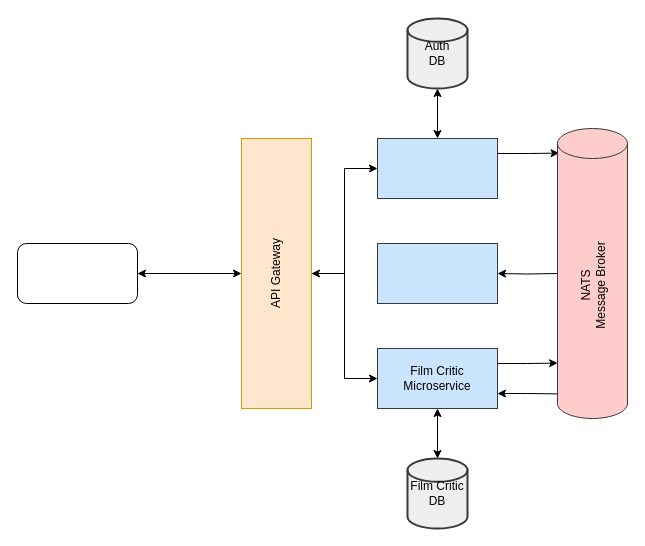
This 645x546 diagram has some shape labels left out. The shapes that lost their labels are listed below. From the top down, each one's centre as x and y in pixels, then its label:
pixel 437 168: Auth Microservice
pixel 77 273: Client
pixel 437 273: Notification Microservice
